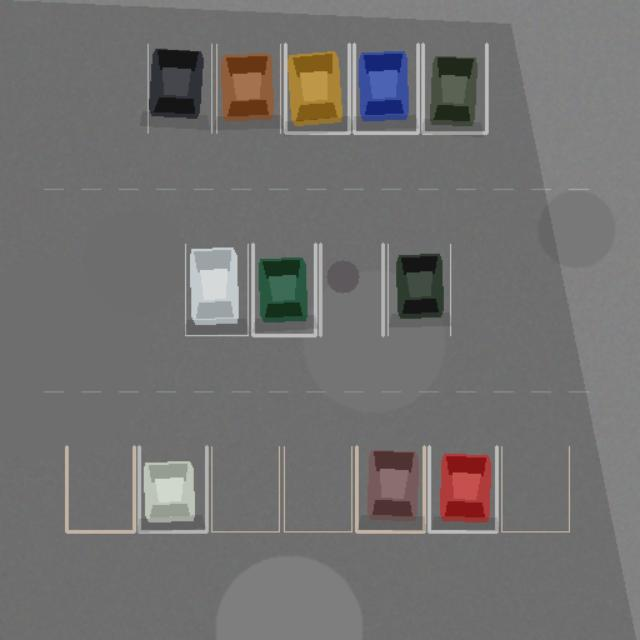space-empty: (66, 446, 134, 531), (211, 446, 279, 531), (501, 446, 569, 531), (284, 446, 351, 531), (320, 244, 382, 335)
space-occupied: (356, 446, 424, 531), (185, 244, 248, 335), (252, 244, 315, 335), (139, 446, 206, 531), (429, 446, 496, 531), (388, 244, 450, 335), (147, 44, 211, 132), (216, 44, 280, 132), (285, 44, 349, 132), (354, 44, 417, 132), (423, 44, 486, 132)
